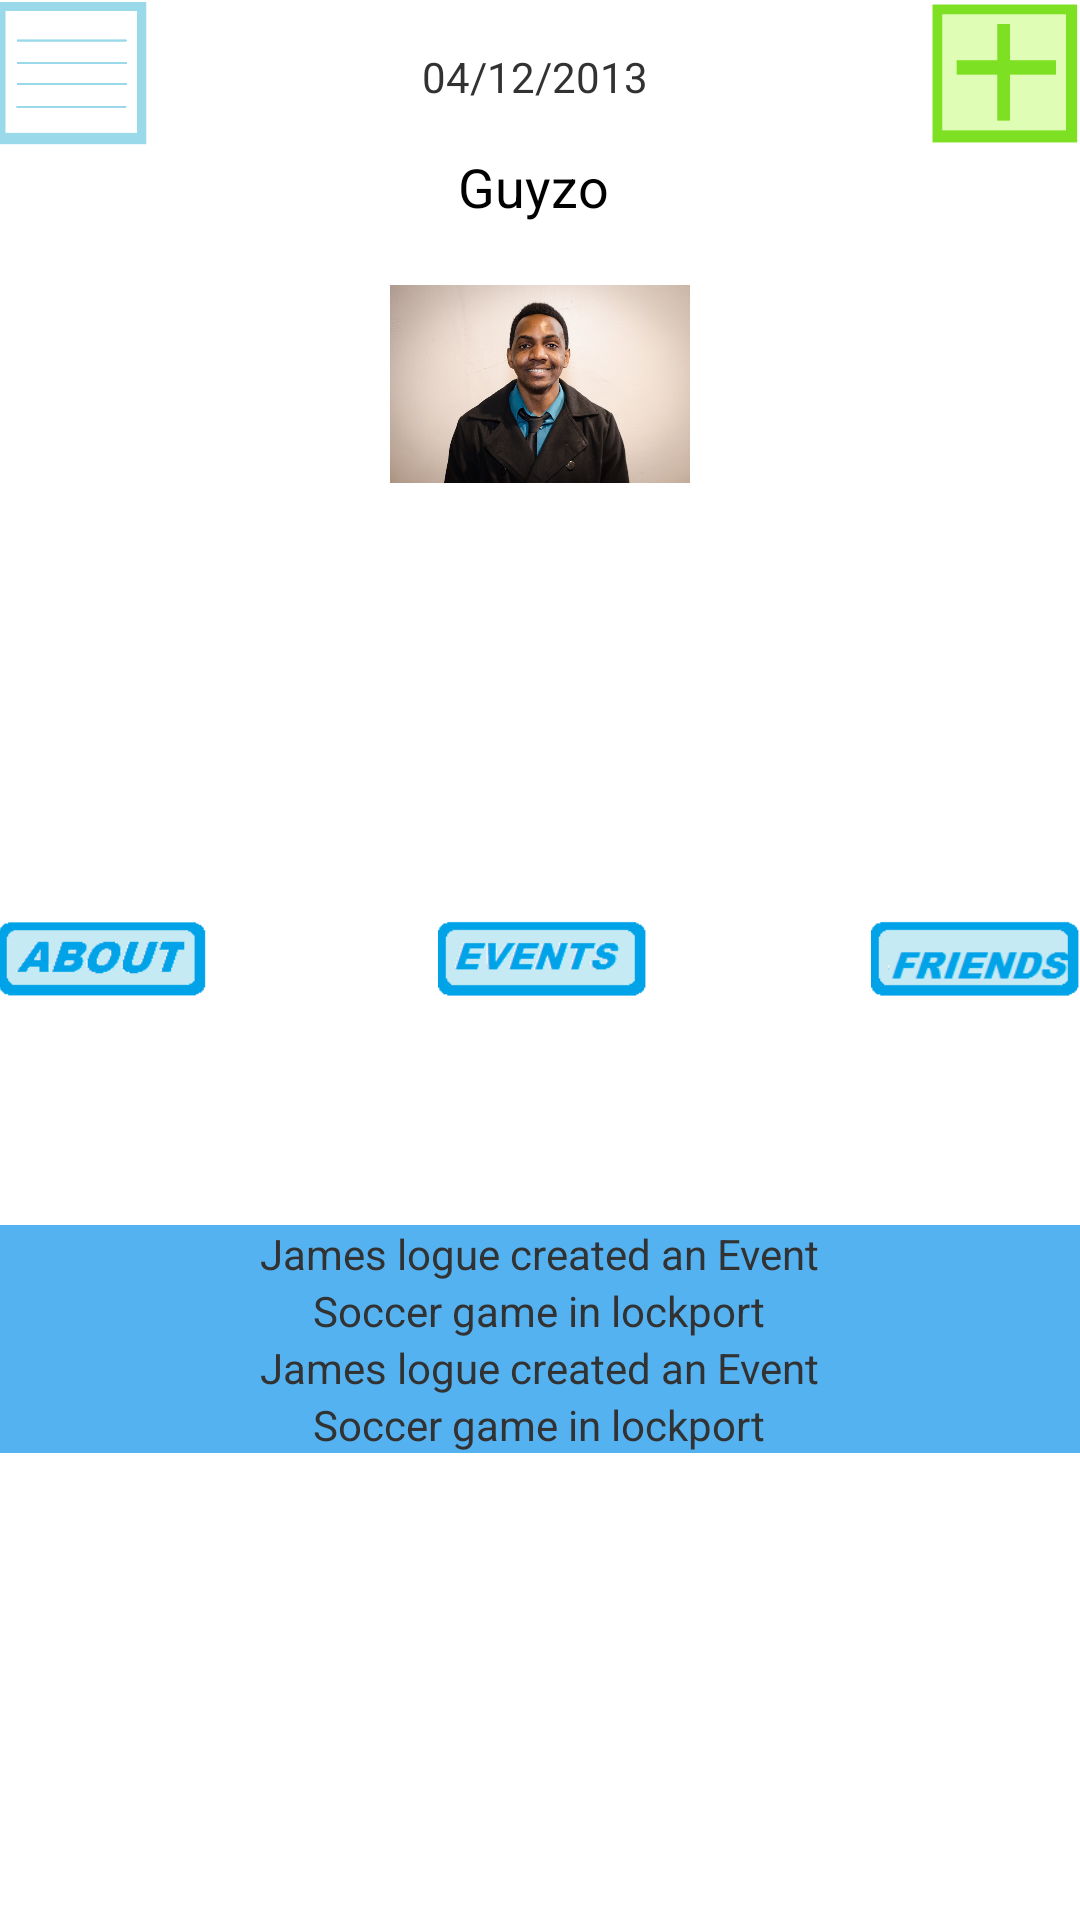

Where to tap for icons on this 1080x1920 app screen, as (x,y):
add: (1005,73)
profile: (540,384)
